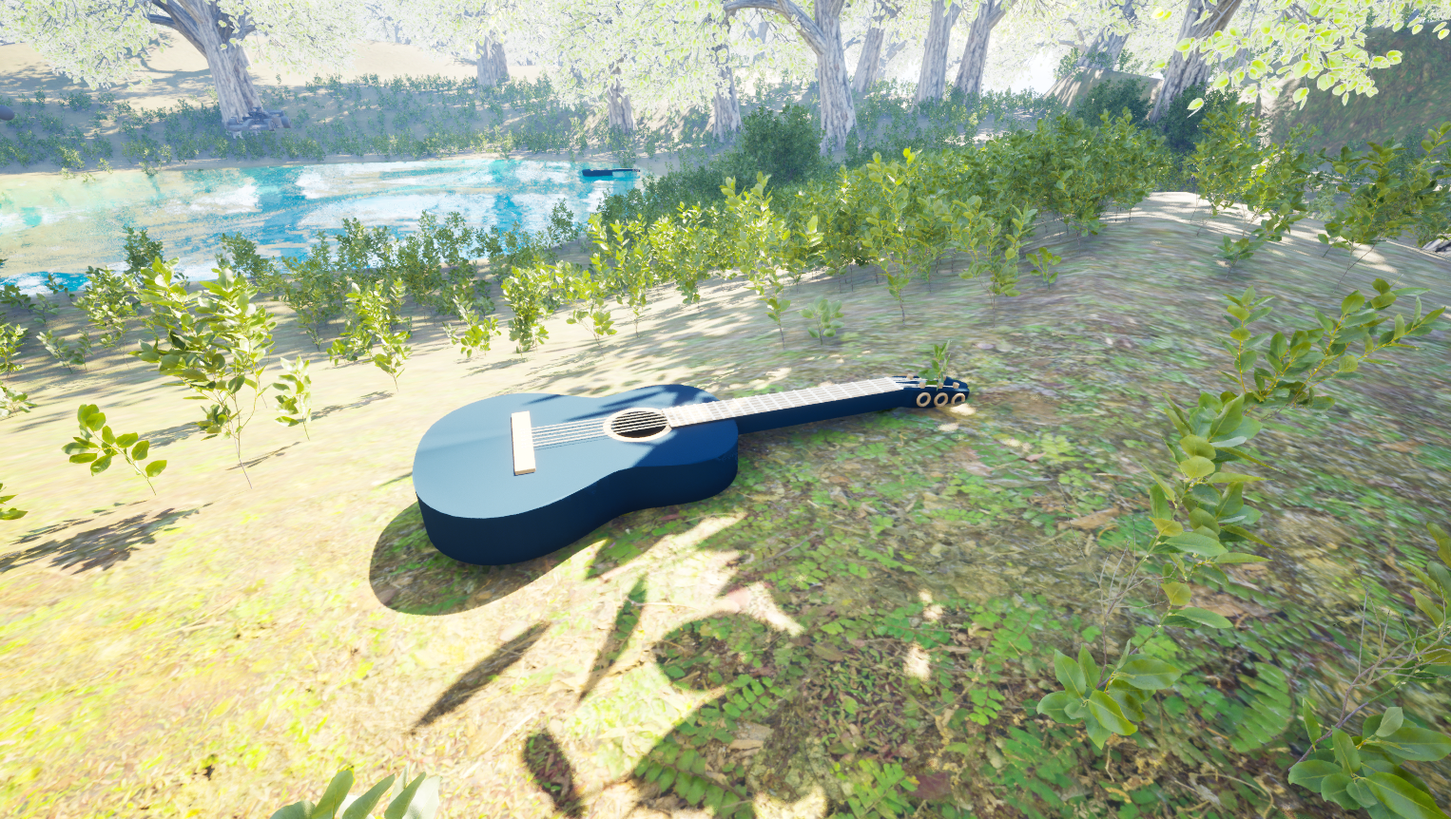Guitar: (396, 337, 1040, 585)
